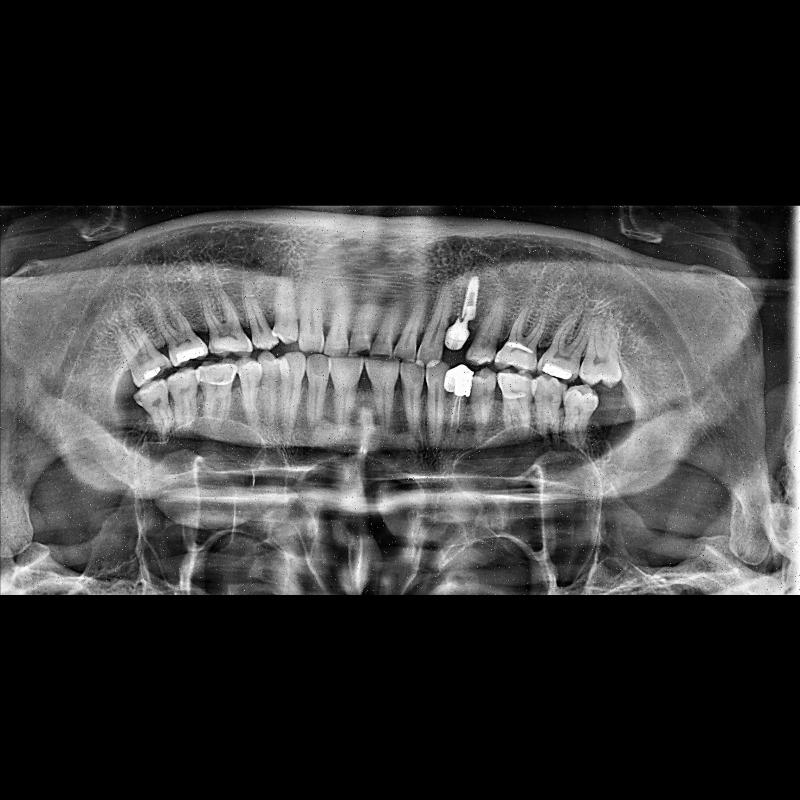osstem: (451, 276, 490, 320)
